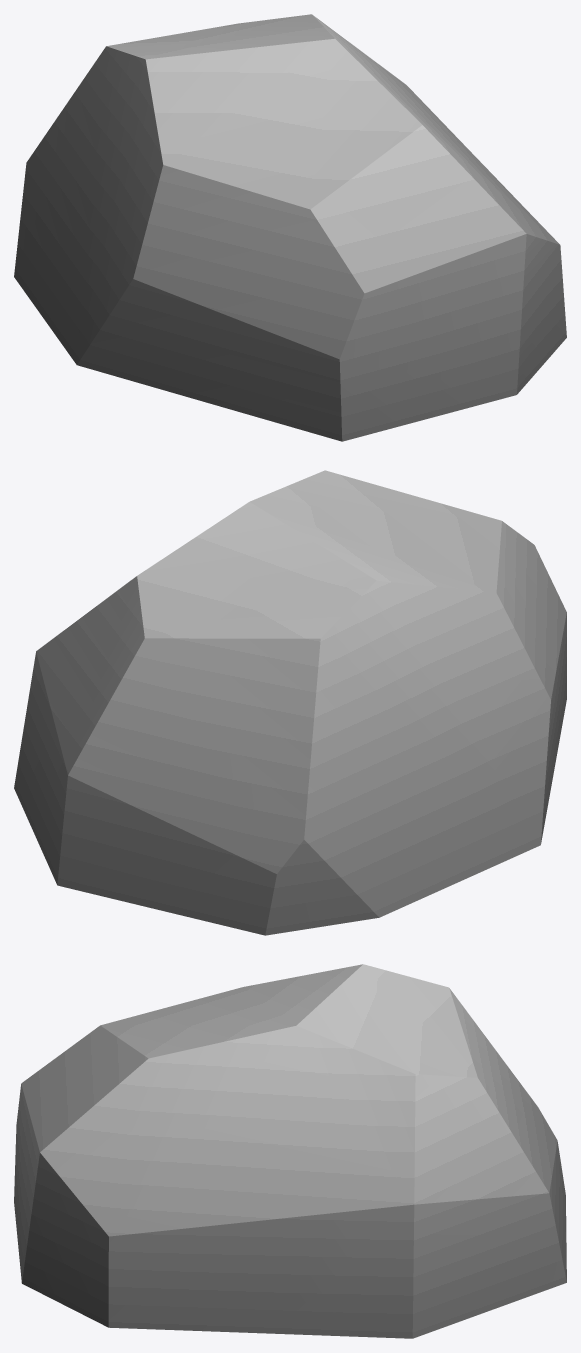
File: stone_4.glb
3 renders of one model, top to bottom at view 1: azimuth 30°, elevation 25°; view 2: azimuth 150°, elevation 25°; view 3: azimuth 270°, elevation 25°, orthographic. The views are drawn at different scales.
Parts seen in each view (by area): view 1: stone 4; view 2: stone 4; view 3: stone 4.
Boxes of the visible parts, <box> form: stone 4: <box>14,14,566,441</box>; stone 4: <box>14,470,566,935</box>; stone 4: <box>14,964,566,1338</box>.
Size of the model in its own units: 1.22 by 0.7168 by 1.49.
Materials: 1 (1 with a texture image).
